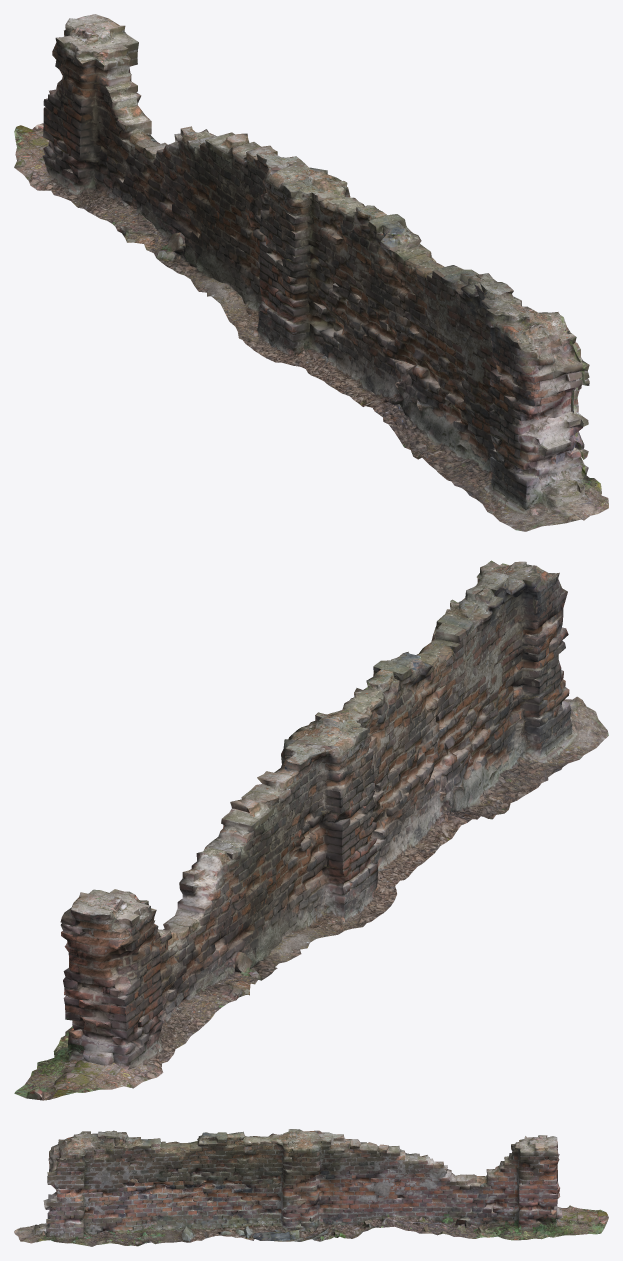
The model's file is SM_Fence_01_01.fbx.
3 views of the same model, one above another, from view 1: azimuth 30°, elevation 25°; view 2: azimuth 150°, elevation 25°; view 3: azimuth 270°, elevation 25° (orthographic). The views are drawn at different scales.
Parts seen in each view (by area): view 1: sm_Fence_01_01_LOD0; view 2: sm_Fence_01_01_LOD0; view 3: sm_Fence_01_01_LOD0.
Boxes of the visible parts, left/top/right/bottom form: sm_Fence_01_01_LOD0: left=14, top=14, right=608, bottom=531; sm_Fence_01_01_LOD0: left=14, top=560, right=608, bottom=1100; sm_Fence_01_01_LOD0: left=14, top=1129, right=608, bottom=1246.
Bounding box in the file's own units: 1067 × 148 × 209.
